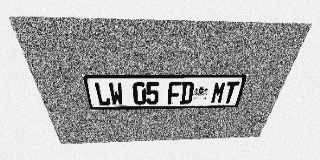0: (132, 82, 146, 105)
5: (146, 82, 159, 105)
D: (180, 82, 194, 104)
F: (167, 82, 181, 104)
L: (94, 82, 111, 106)
M: (210, 81, 227, 104)
T: (222, 81, 240, 103)
W: (108, 82, 124, 105)
